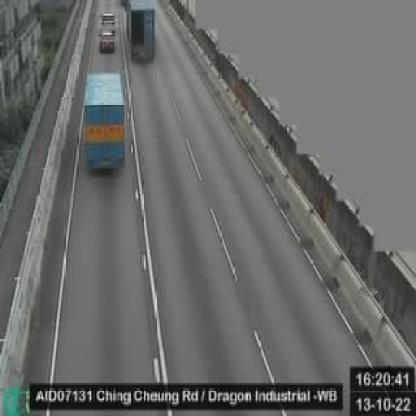Car: (98, 29, 114, 53), (99, 12, 116, 32)
Truck: (83, 75, 127, 174), (128, 0, 158, 62)
